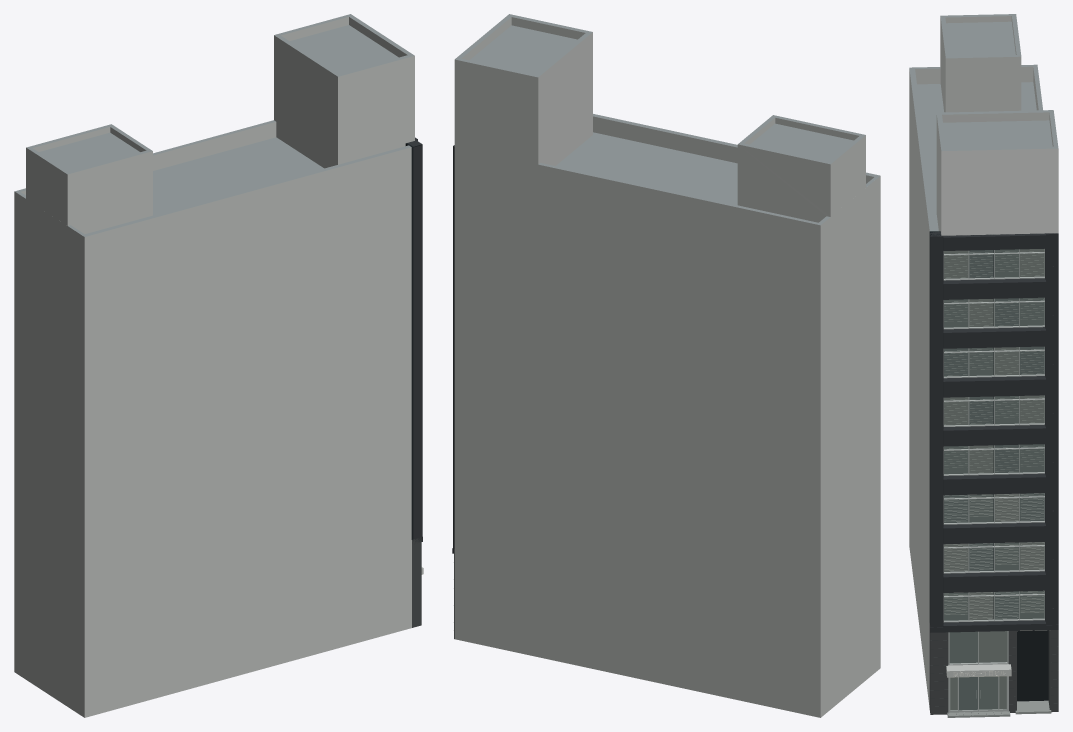
The model's file is d11-tokyu796.glb.
The picture shows the model from 3 angles, left to right: view 1: azimuth 30°, elevation 25°; view 2: azimuth 150°, elevation 25°; view 3: azimuth 270°, elevation 25°; orthographic projection. The views are drawn at different scales.
Visible parts, largest first — view 1: 01_O1_Observed_upper_window_bands; view 2: 01_O1_Observed_upper_window_bands; view 3: 01_O1_Observed_upper_window_bands.
Boxes of the visible parts, x1=… form: 01_O1_Observed_upper_window_bands: x1=14, y1=14, x2=423, y2=717; 01_O1_Observed_upper_window_bands: x1=452, y1=14, x2=880, y2=717; 01_O1_Observed_upper_window_bands: x1=909, y1=14, x2=1058, y2=717.
Bounding box in the file's own units: 27.61 × 41.07 × 9.87.
1 material, 1 textured.
